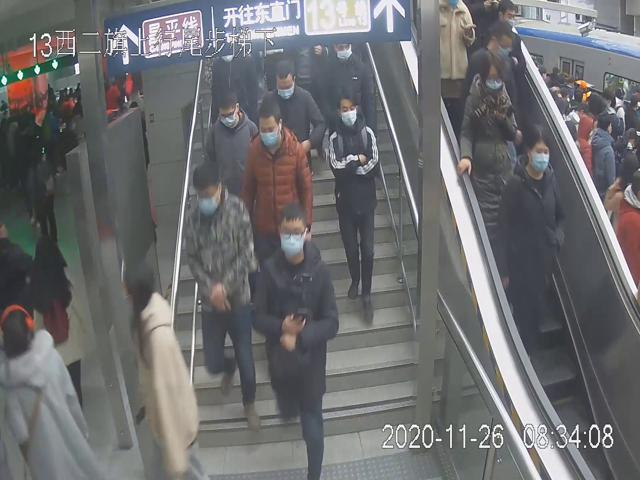person: (251, 200, 340, 480), (185, 159, 262, 434), (493, 120, 565, 362), (327, 86, 382, 327), (458, 49, 522, 246), (240, 98, 314, 252), (257, 59, 326, 161), (321, 37, 377, 142), (202, 89, 259, 192)
